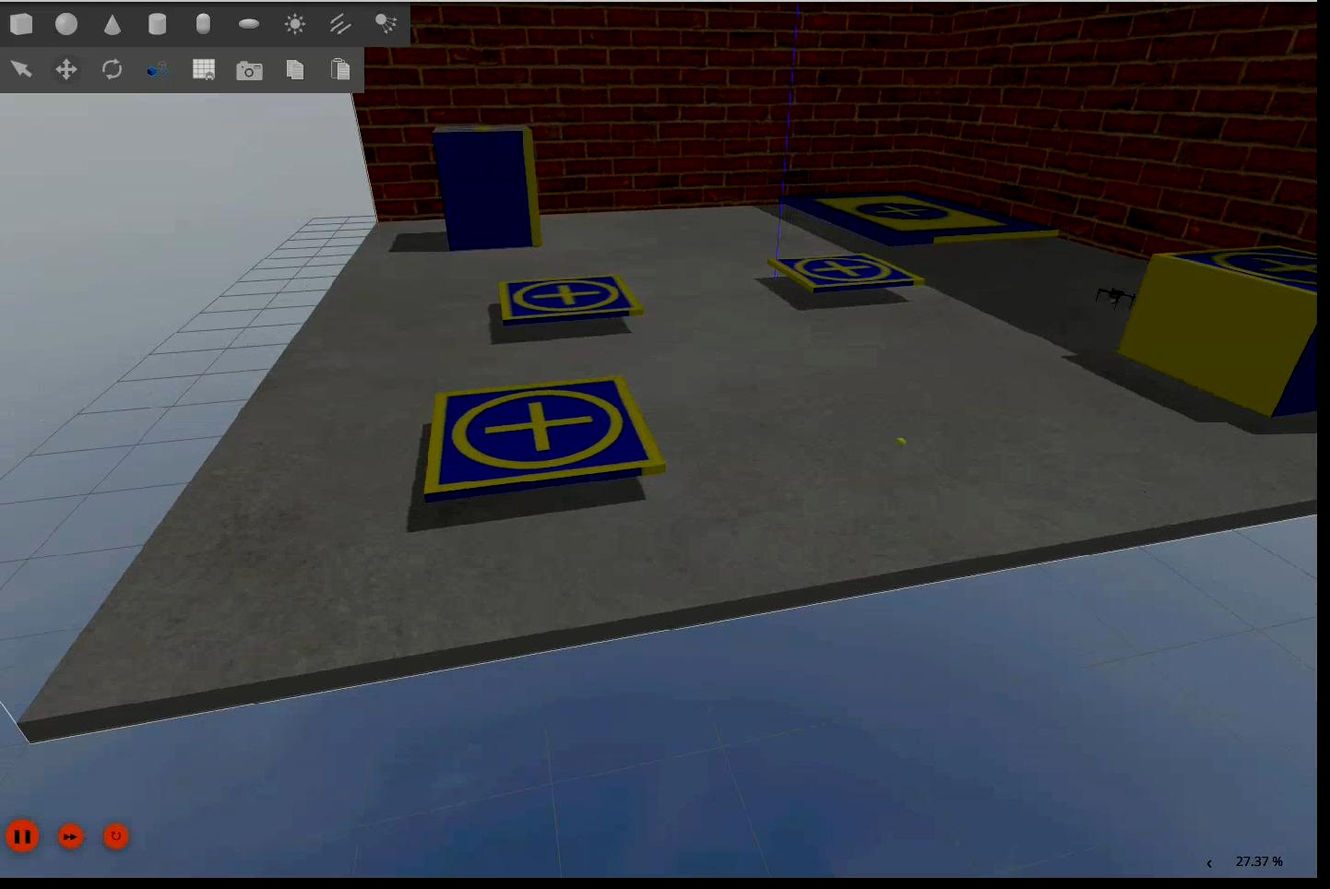large_base: (778, 191, 1063, 247)
small_base: (425, 378, 666, 508), (1150, 242, 1323, 302), (498, 275, 647, 325), (763, 253, 924, 297)
